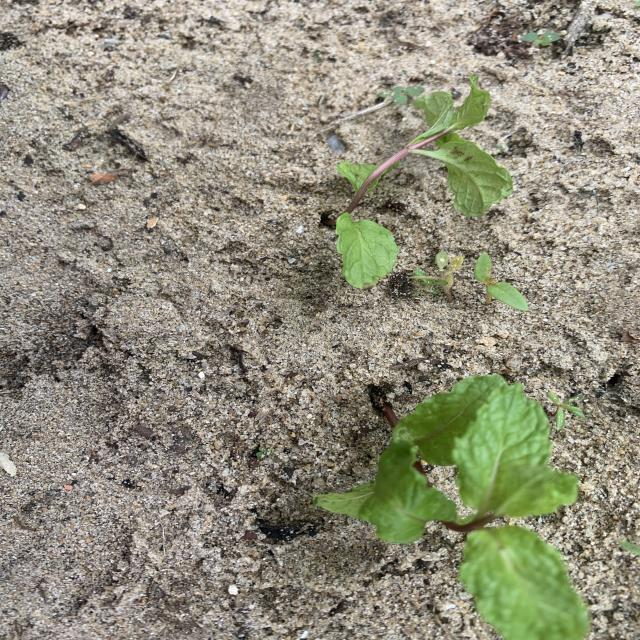crop: (314, 375, 588, 640), (331, 74, 512, 289)
weed: (474, 252, 528, 311), (410, 252, 464, 302), (546, 391, 586, 430), (379, 86, 424, 105), (521, 32, 560, 47), (617, 538, 640, 556), (255, 446, 277, 461), (566, 394, 584, 401)
